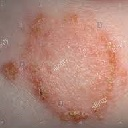Impetigo: (25, 14, 117, 121)
